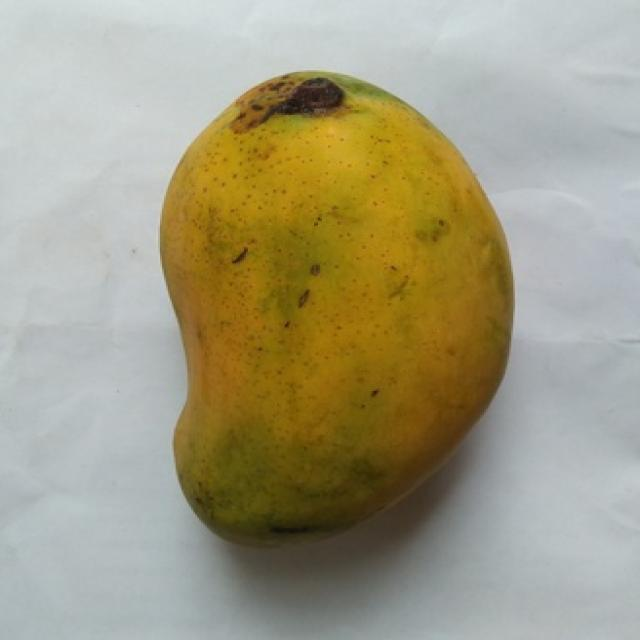Mango: (162, 72, 511, 536)
